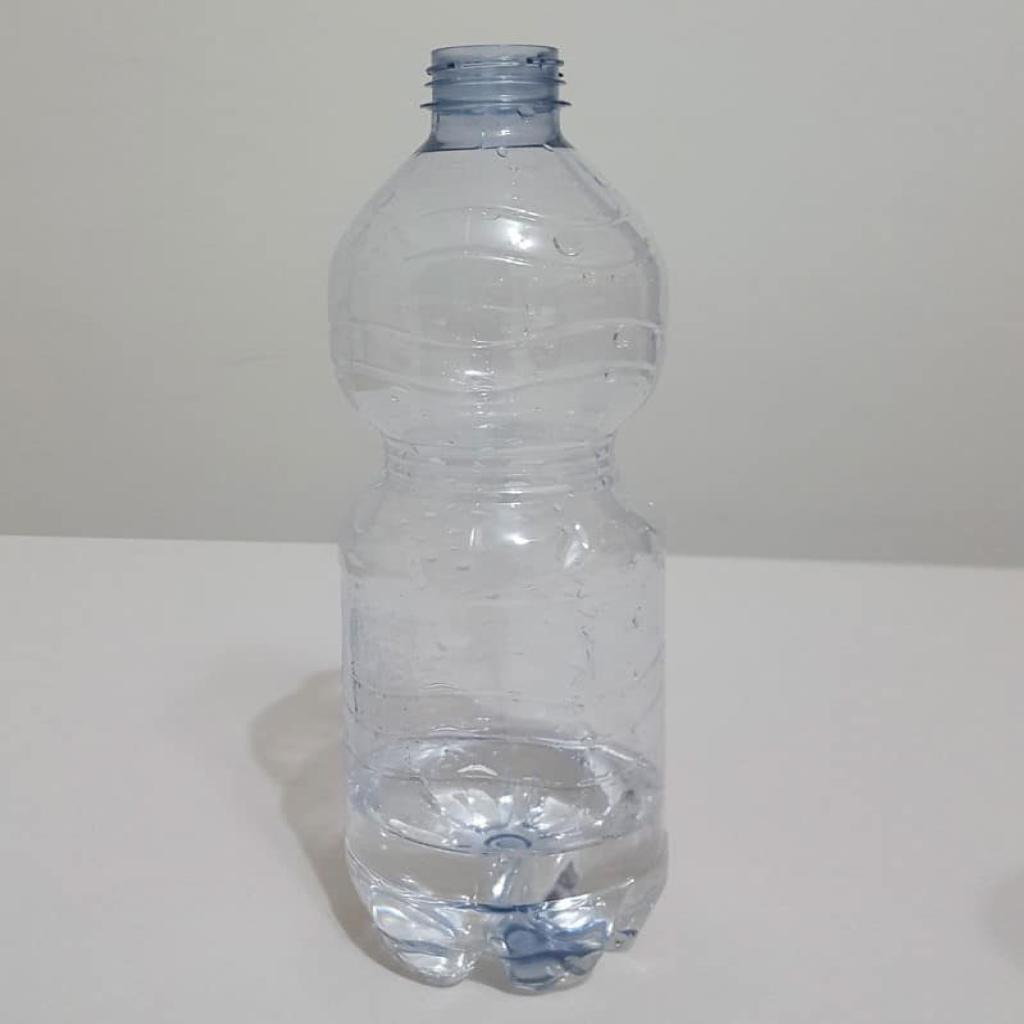plastic: (292, 19, 710, 1006)
